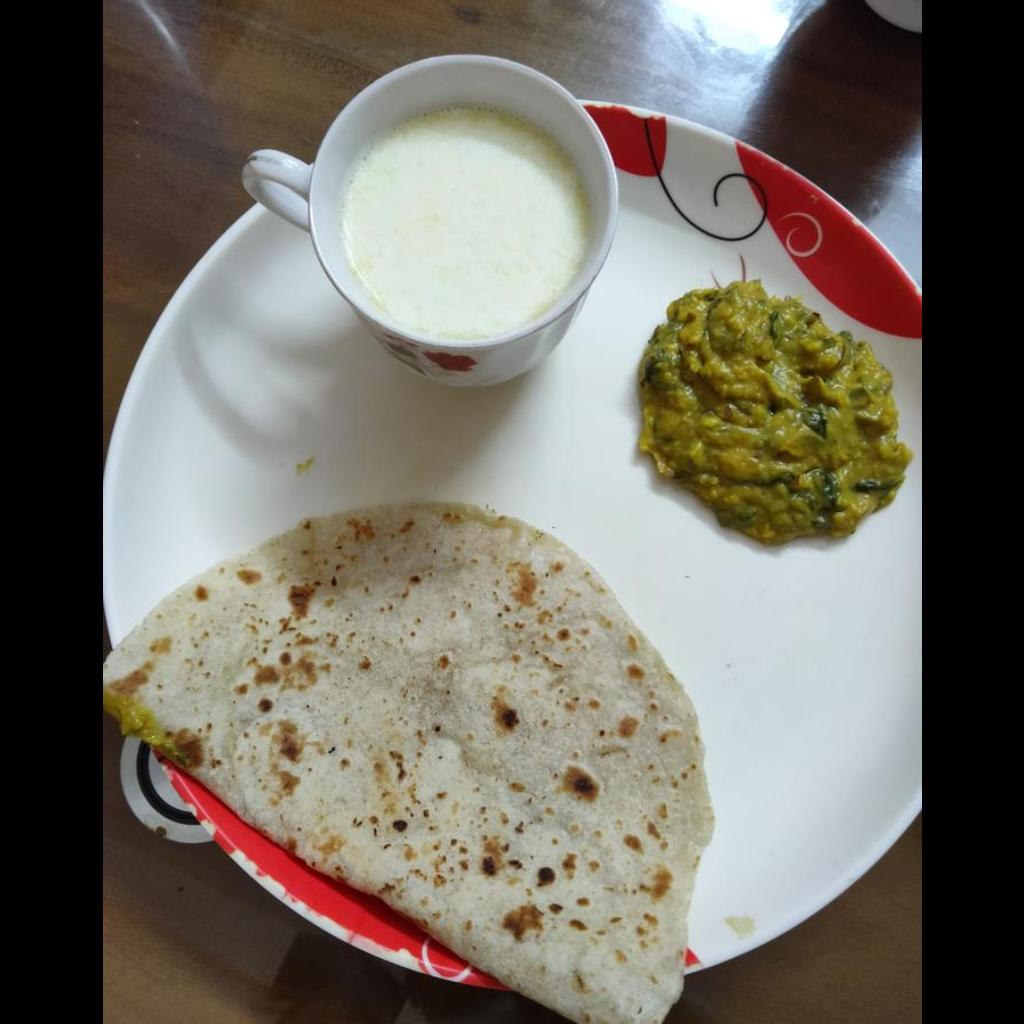daal: (626, 288, 902, 550)
milk: (342, 110, 587, 338)
ruti: (102, 503, 716, 1022)
